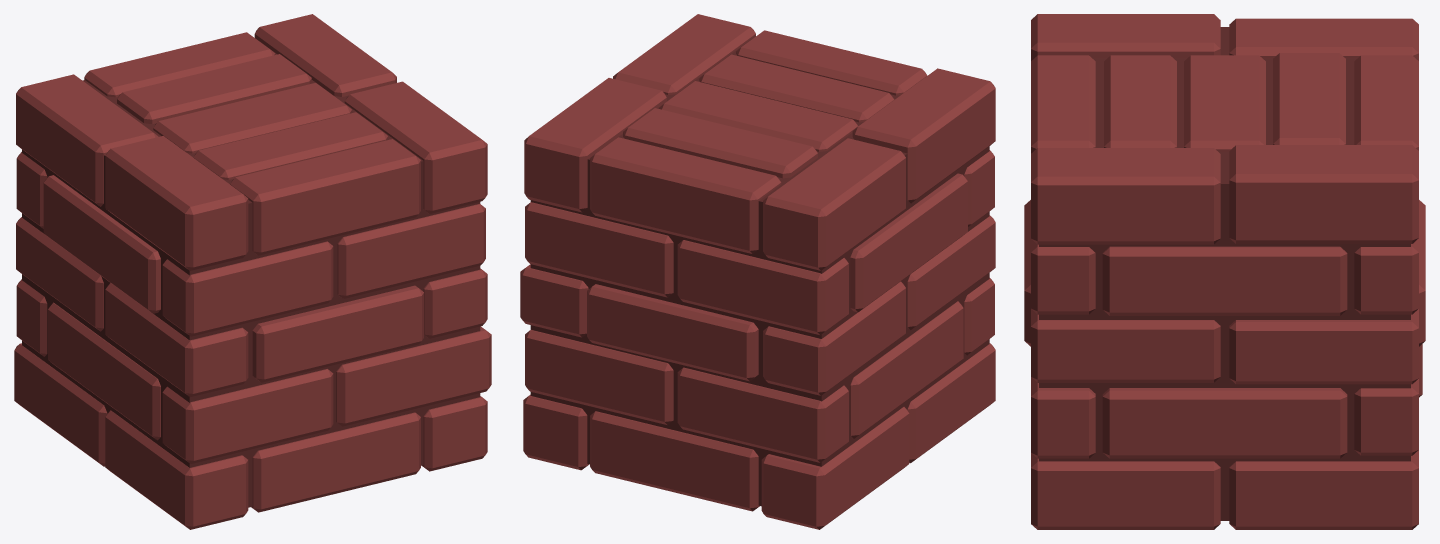
The model's file is Cube_Bricks.gltf.
The picture shows the model from 3 angles, left to right: view 1: azimuth 30°, elevation 25°; view 2: azimuth 150°, elevation 25°; view 3: azimuth 270°, elevation 25°; orthographic projection. The views are drawn at different scales.
Visible parts, largest first — view 1: Cube_Bricks; view 2: Cube_Bricks; view 3: Cube_Bricks.
Part boxes in pixels (<box>): Cube_Bricks: <box>14,14,491,529</box>; Cube_Bricks: <box>520,14,995,529</box>; Cube_Bricks: <box>1024,14,1425,529</box>.
Bounding box in the file's own units: 2.04 × 2.03 × 2.06.
